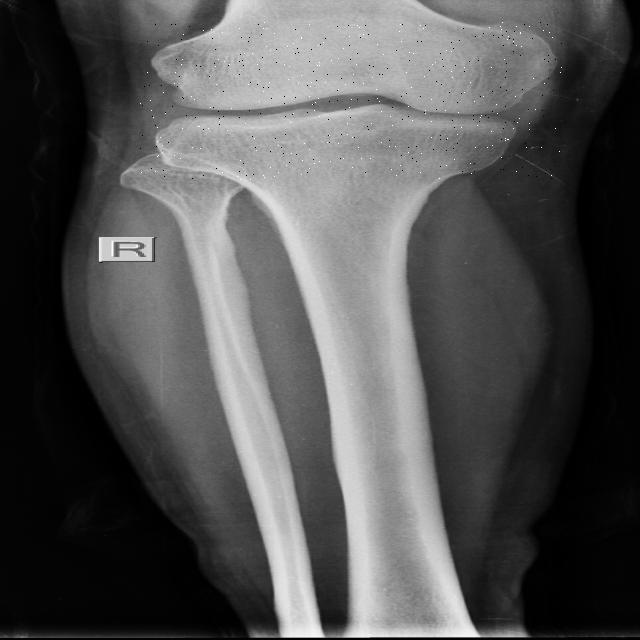normal: (140, 22, 562, 180)
